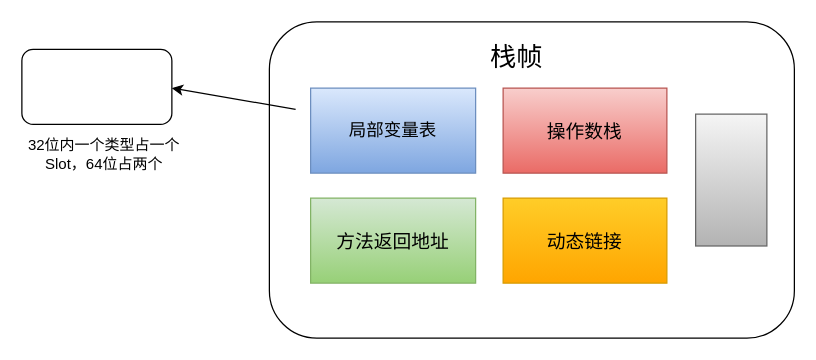
Some shapes in this 816 by 360 pixel diagram are drawn without their labels. The centre of each missing label's shape, as x and y in pixels:
"基本数据类型 对象引用 返回值类型" goes at (x=96, y=86).
"附 加 信 息" goes at (x=730, y=179).
